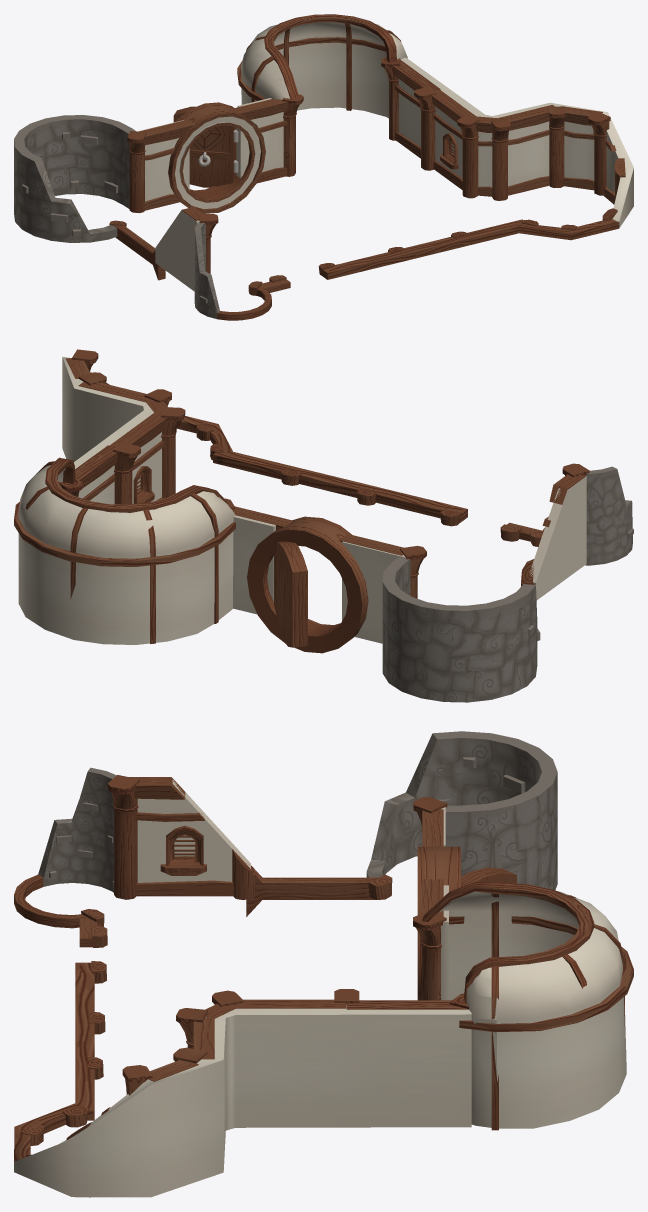
File: PVB export winkel final 01.fbx
3 renders of one model, top to bottom at view 1: azimuth 30°, elevation 25°; view 2: azimuth 150°, elevation 25°; view 3: azimuth 270°, elevation 25°, orthographic. The views are drawn at different scales.
Visible parts, largest first — view 1: planetarium_ronde_muur, boom_hok_base, base_muren, base (×4), deur_cirkel, deur_base, stukke_ronde_muur, pilaar_2 (×2), boom_hok_top, base1, base_links, base_rechts (+17 smaller); view 2: boom_hok_base, planetarium_ronde_muur, base_muren, deur_cirkel, base (×3), stukke_ronde_muur, deur_base, base_links, top (×3), boom_hok_detail_rand, boom_hok_top, pilaar_rechts (+9 smaller); view 3: base_muren, boom_hok_base, planetarium_ronde_muur, stukke_ronde_muur, base, boom_hok_top, top (×3), pilaar, base_muur_links, boom_hok_detail_rand, deur_cirkel, deur_pilaar_rechts (+9 smaller).
Boxes of the visible parts, x1,y1,x2,y2 form: planetarium_ronde_muur: (14,115,135,242); boom_hok_base: (241,22,407,118); base_muren: (237,57,633,279); base (×4): (155,79,594,291); deur_cirkel: (168,102,265,213); deur_base: (173,106,236,187); stukke_ronde_muur: (194,222,271,320); pilaar_2 (×2): (381,57,565,187); boom_hok_top: (264,14,396,99); base1: (508,121,549,186); base_links: (137,120,189,201); base_rechts: (236,112,283,178); boom_hok_base: (18,465,235,644); planetarium_ronde_muur: (382,557,537,702); base_muren: (62,357,467,614); deur_cirkel: (247,516,368,653); base (×3): (78,432,586,600); stukke_ronde_muur: (542,466,632,565); deur_base: (274,541,307,647); base_links: (342,541,405,643); top (×3): (75,412,585,504); boom_hok_detail_rand: (14,502,235,566); boom_hok_top: (45,457,228,512); pilaar_rechts: (160,407,185,498); base_muren: (14,885,471,1197); boom_hok_base: (439,885,626,1128); planetarium_ronde_muur: (366,731,557,889); stukke_ronde_muur: (14,767,116,928); base: (137,779,250,882); boom_hok_top: (422,881,594,1003); top (×3): (129,777,468,1009); pilaar: (107,775,139,899); base_muur_links: (246,865,376,916); boom_hok_detail_rand: (449,916,633,1032); deur_cirkel: (417,846,460,1000); deur_pilaar_rechts: (413,910,446,1000).
Size of the model in its own units: 41.07 by 9.64 by 30.26.
Materials: 6 (6 with a texture image).
